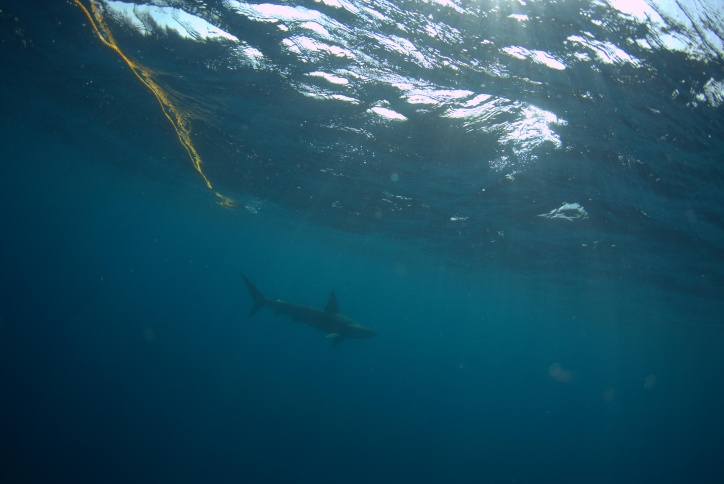Hammer: (232, 261, 389, 370)
